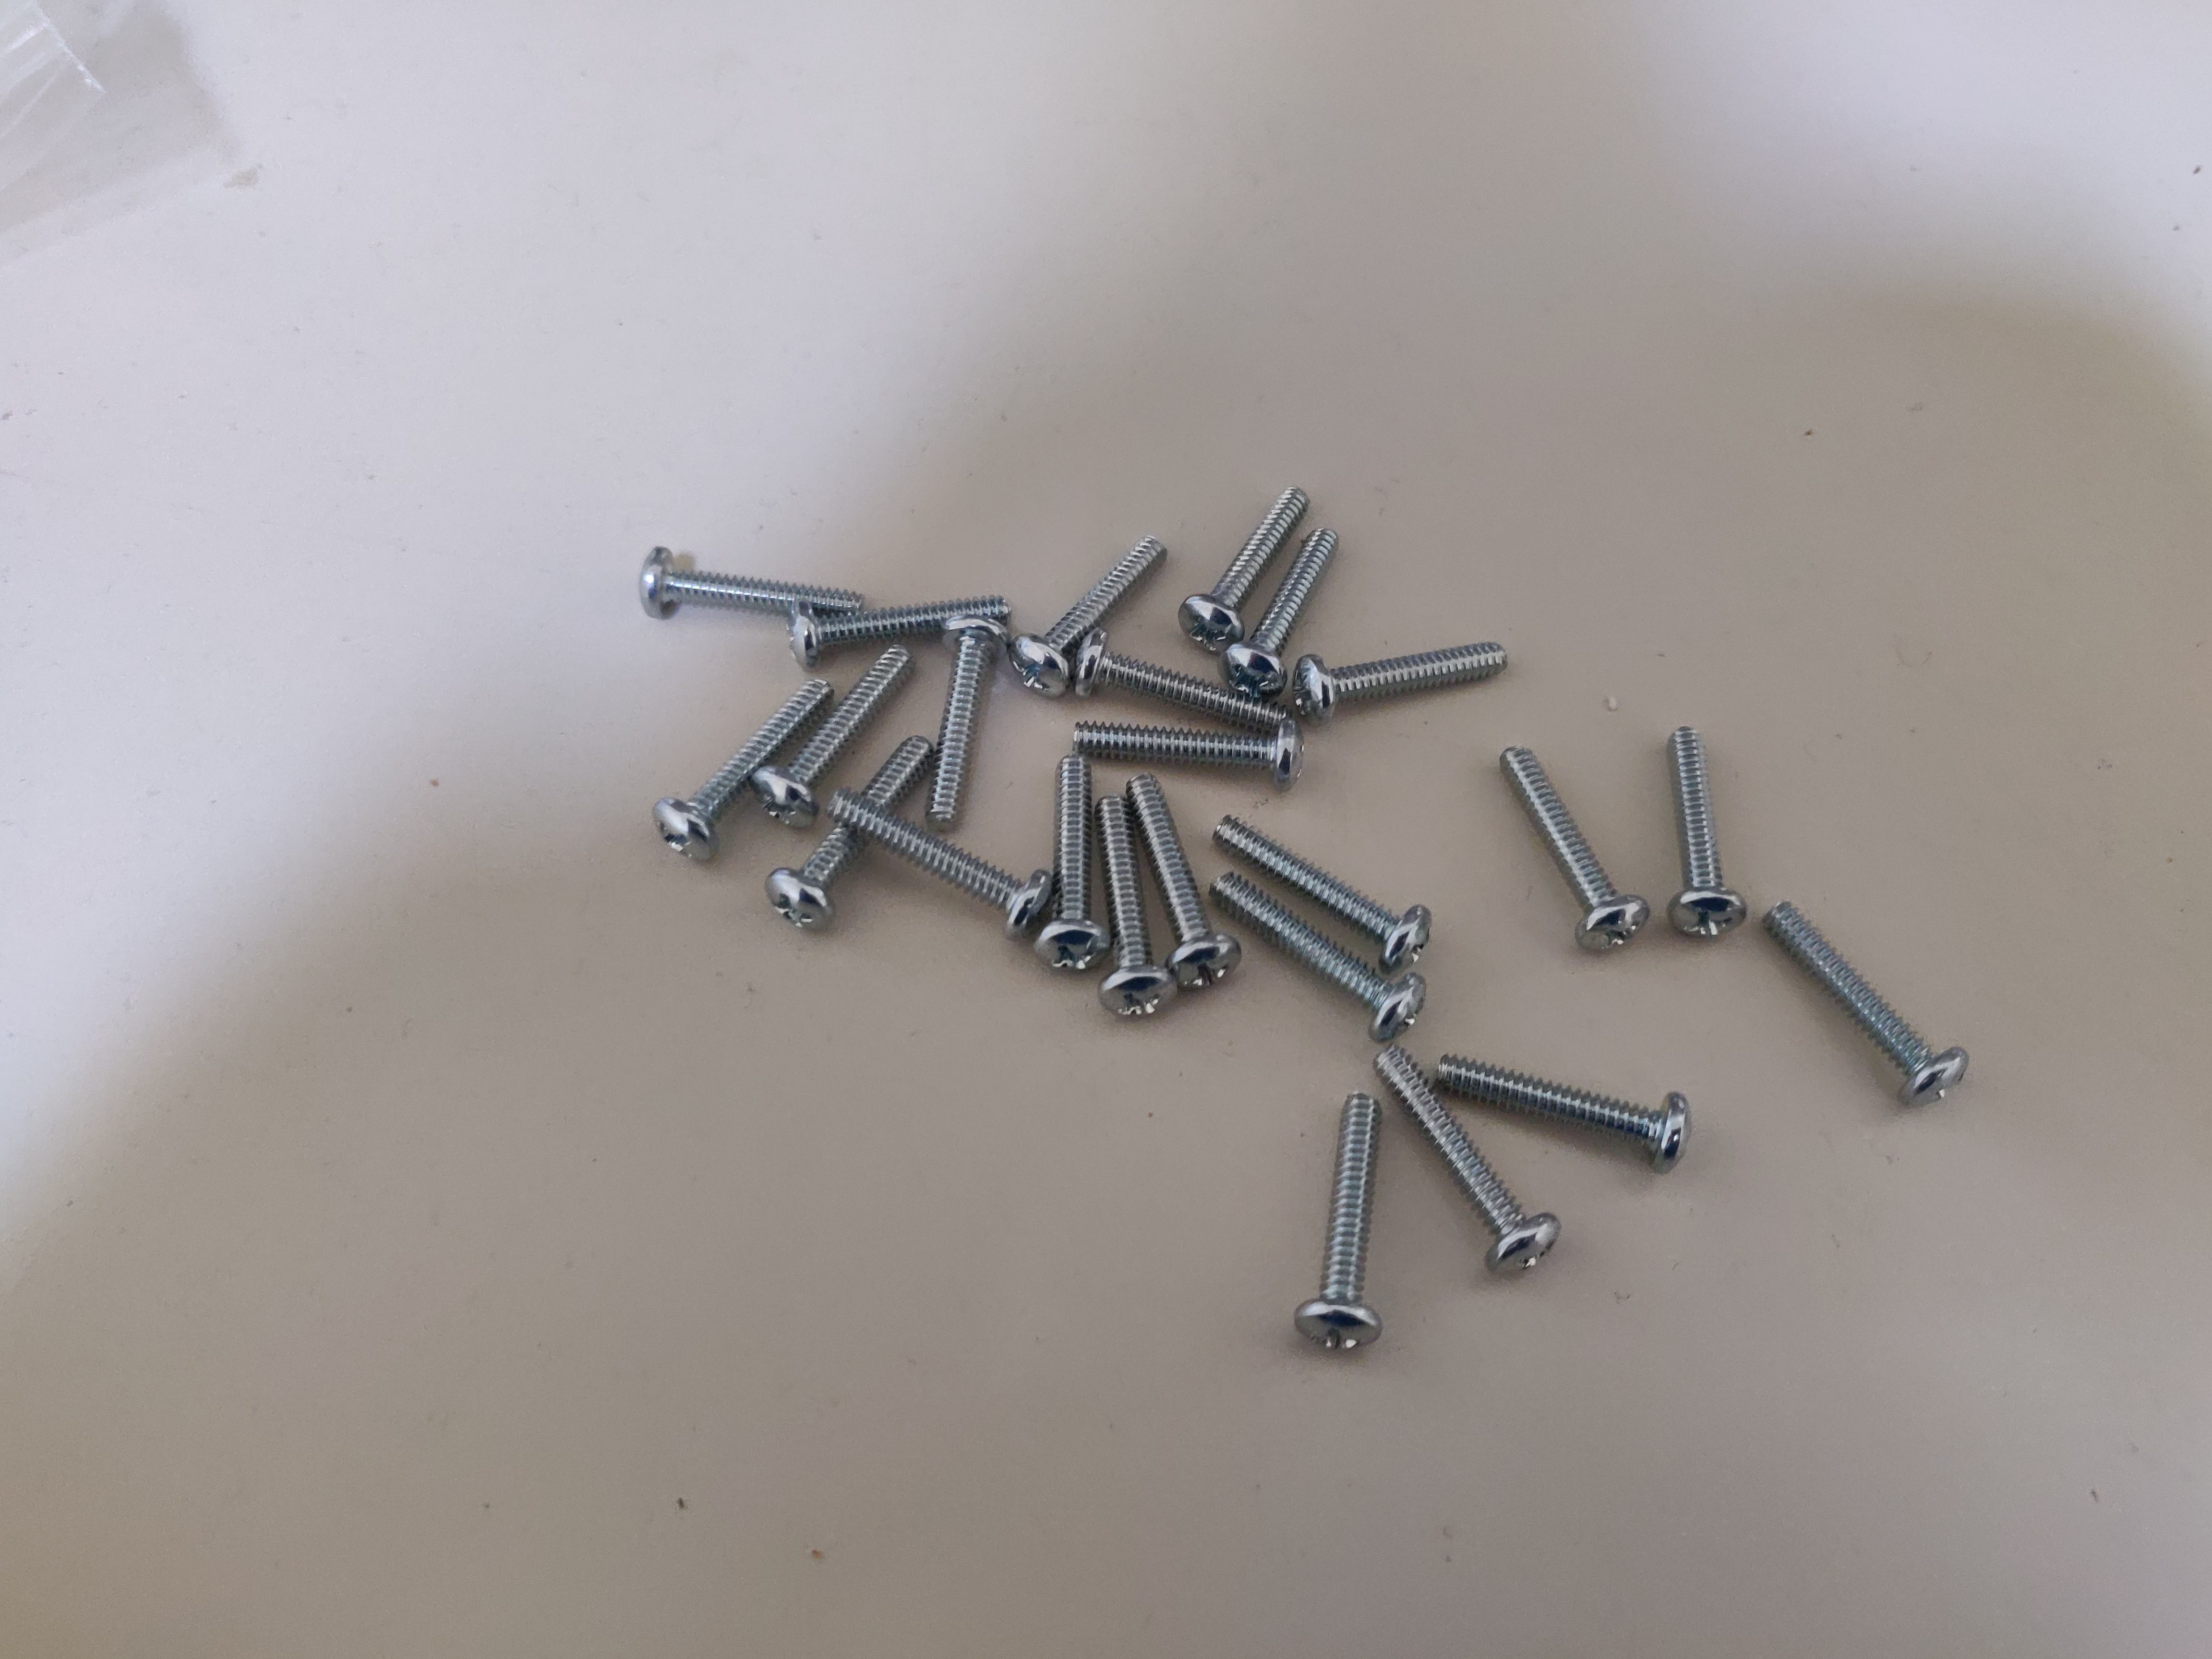longscrew: (1757, 894, 1972, 1114), (1369, 1040, 1559, 1283), (1209, 871, 1430, 1049), (1207, 814, 1435, 974), (824, 786, 1054, 939), (648, 676, 833, 866), (763, 730, 932, 932), (1496, 742, 1651, 958), (747, 640, 921, 831), (1433, 1051, 1691, 1180), (1008, 532, 1169, 702), (1125, 774, 1244, 997), (1292, 1087, 1388, 1354), (1069, 627, 1298, 737), (1174, 483, 1317, 652), (1217, 519, 1343, 699), (923, 606, 1015, 833), (1291, 636, 1510, 728), (1096, 786, 1179, 1023), (786, 587, 1014, 673), (1662, 723, 1749, 946), (632, 542, 866, 622), (1029, 755, 1111, 976), (1069, 720, 1308, 789)
